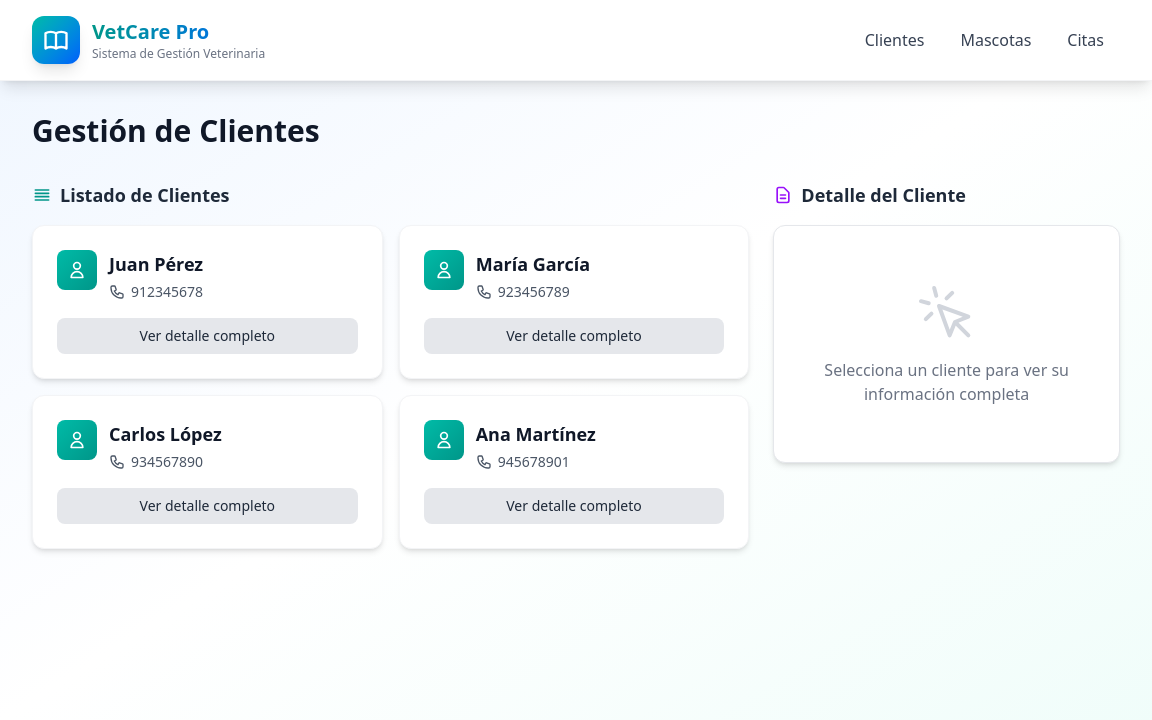
Test: MascotApp E2E Tests › Página de Clientes › muestra el detalle al seleccionar un cliente
Click the heading "Juan Pérez": (156, 264) [109,252,203,276]
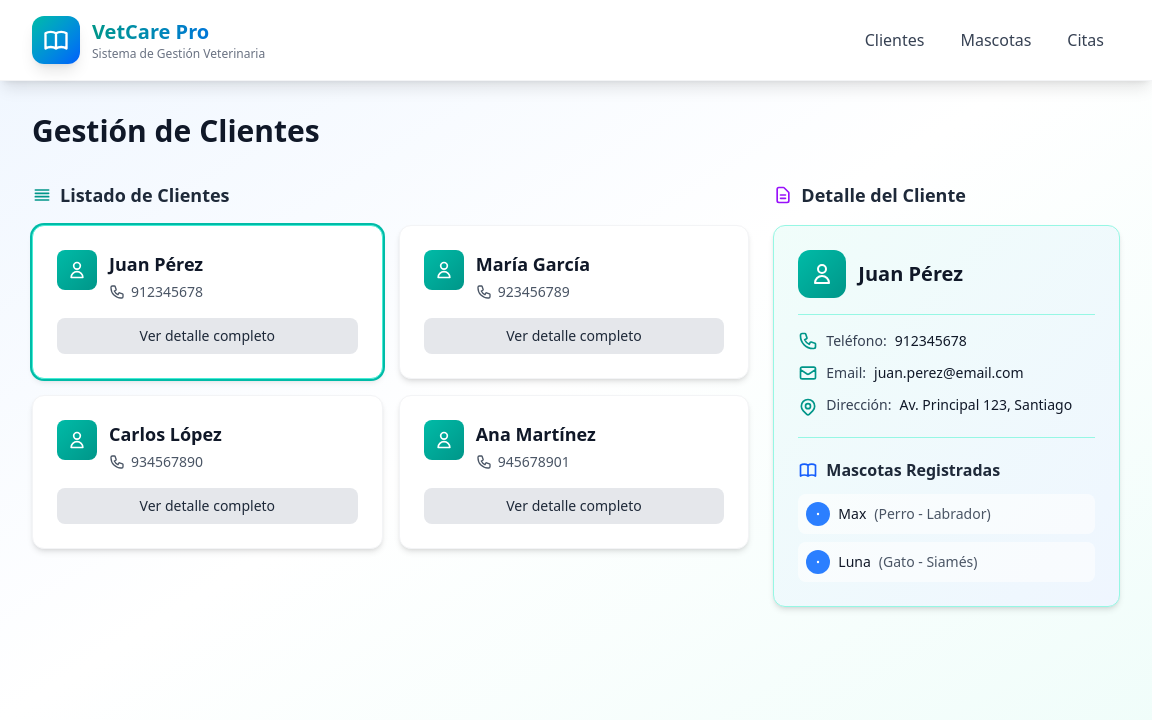
Expected: the heading "Detalle del Cliente" is shown, [801,181,966,209]
Now the text "Teléfono:" is shown, box [826,331,887,351]
